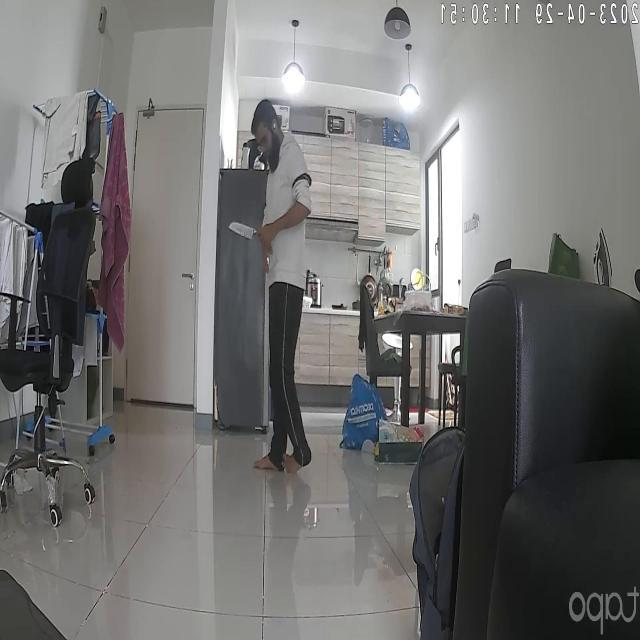Knife: (218, 208, 262, 250)
